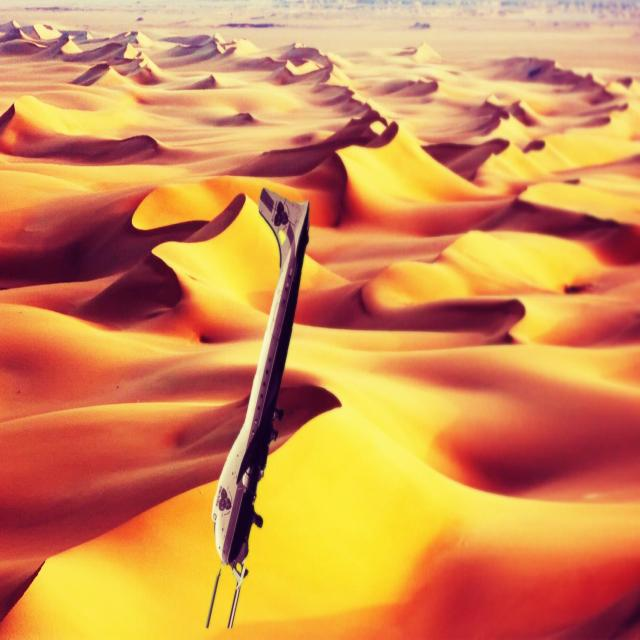airplane: (205, 186, 311, 630)
